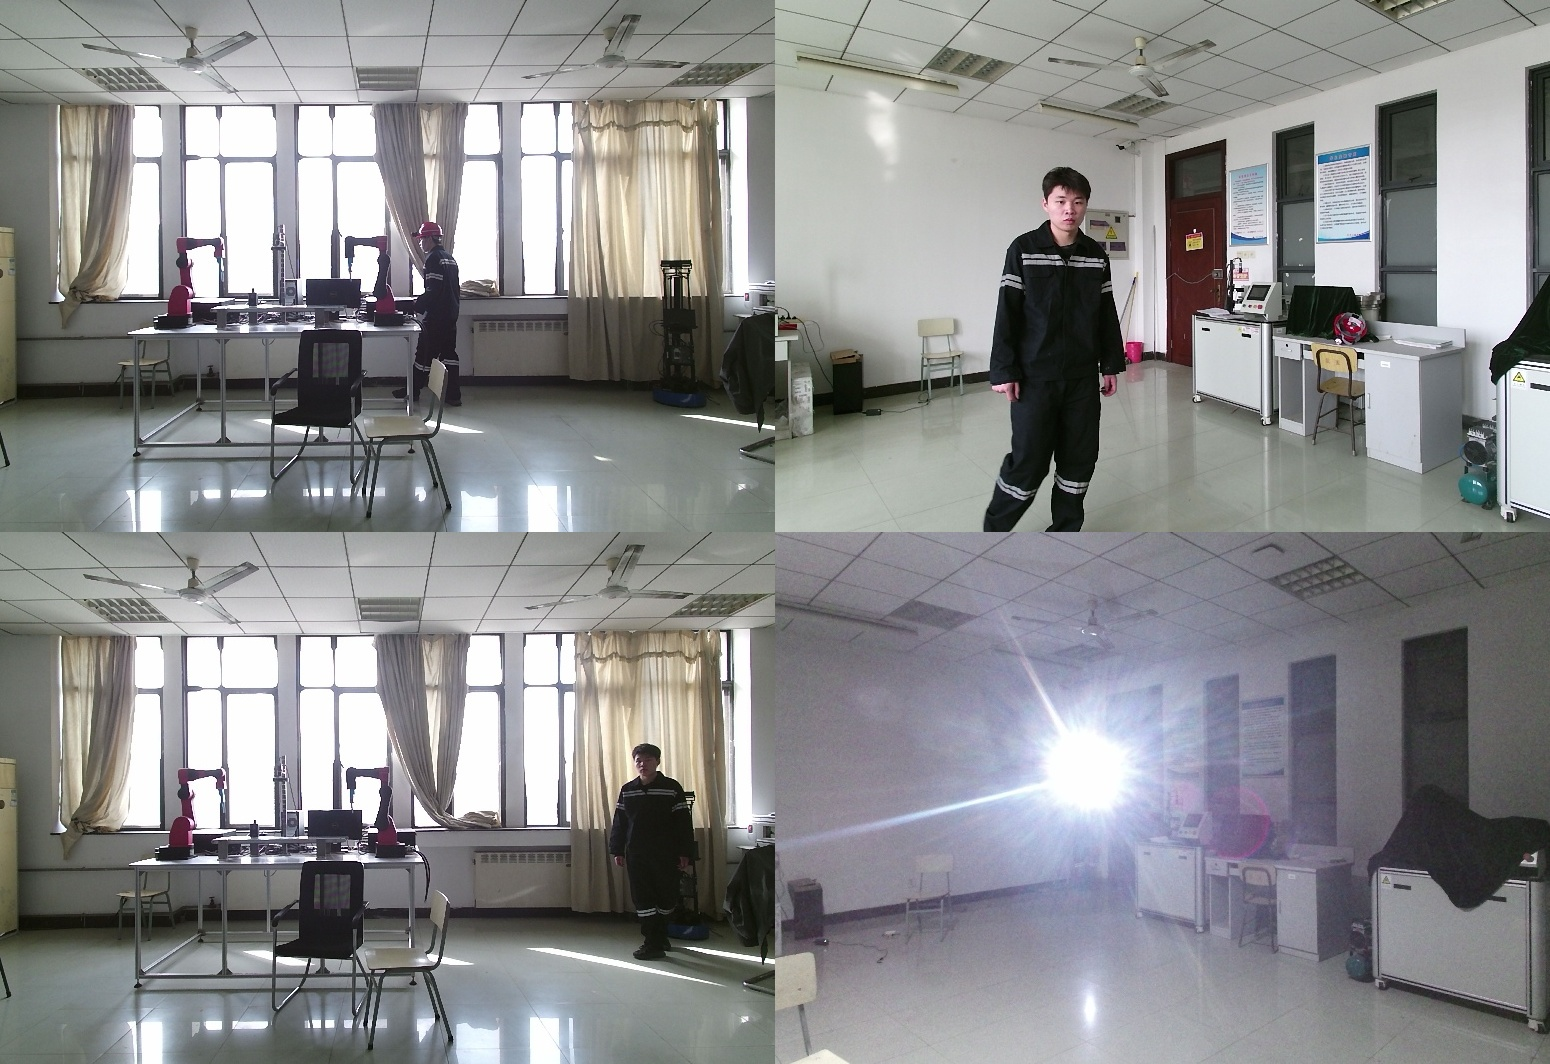person: (972, 167, 1122, 532), (614, 745, 706, 962), (396, 224, 469, 409), (1061, 768, 1107, 892)
